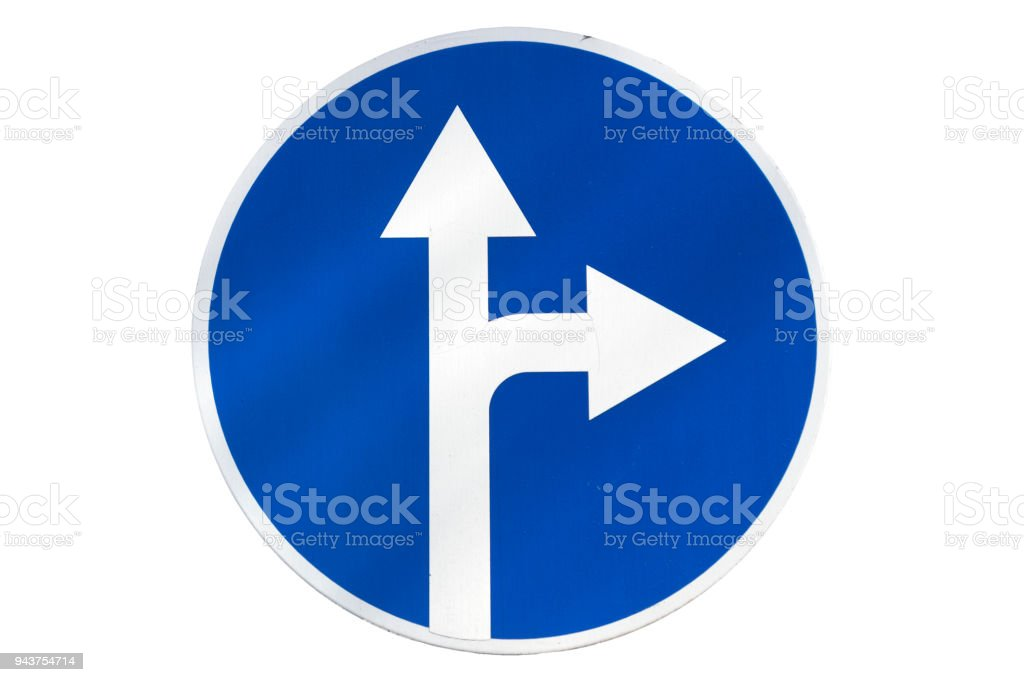ileri_veya_saga: (188, 25, 835, 660)
